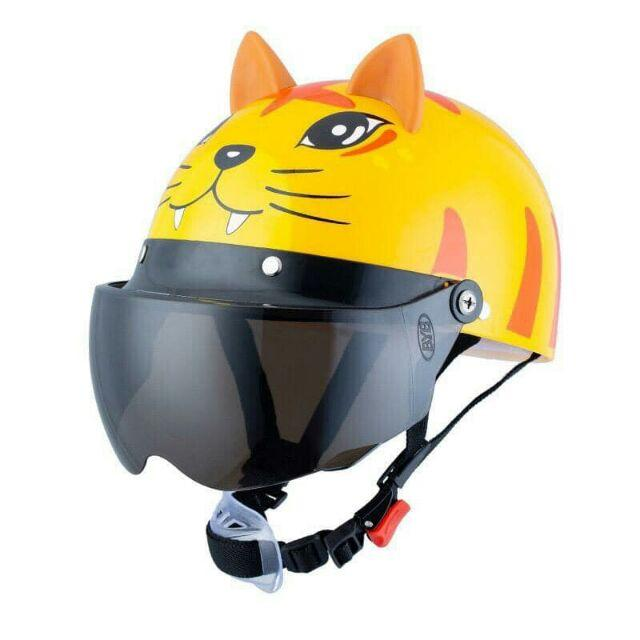1-2-helmet: (76, 13, 571, 610)
